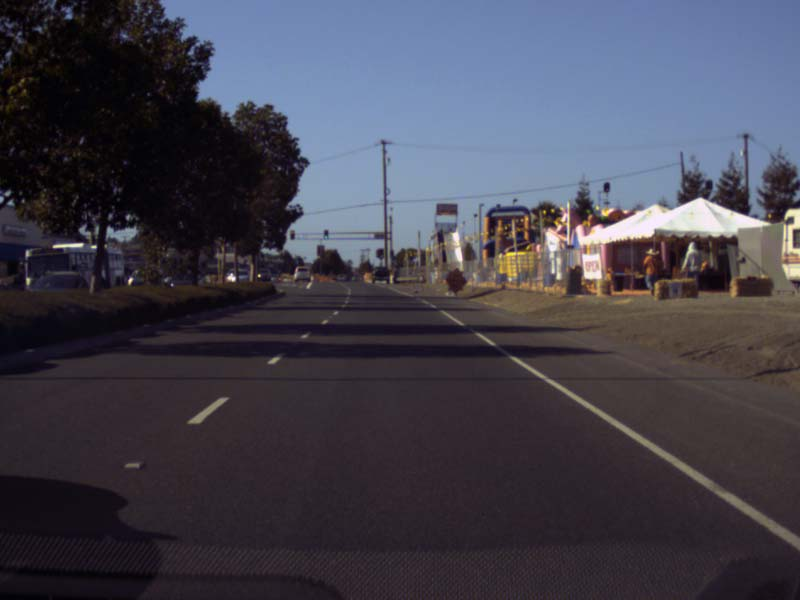Green: (323, 229, 328, 240)
Red: (289, 229, 294, 239)
